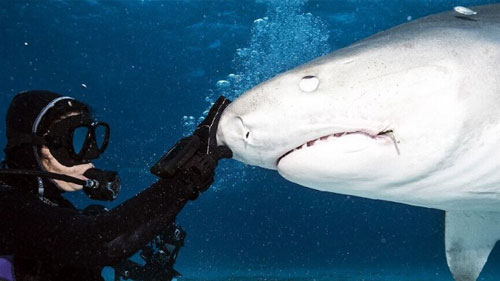shark: (197, 2, 500, 225)
